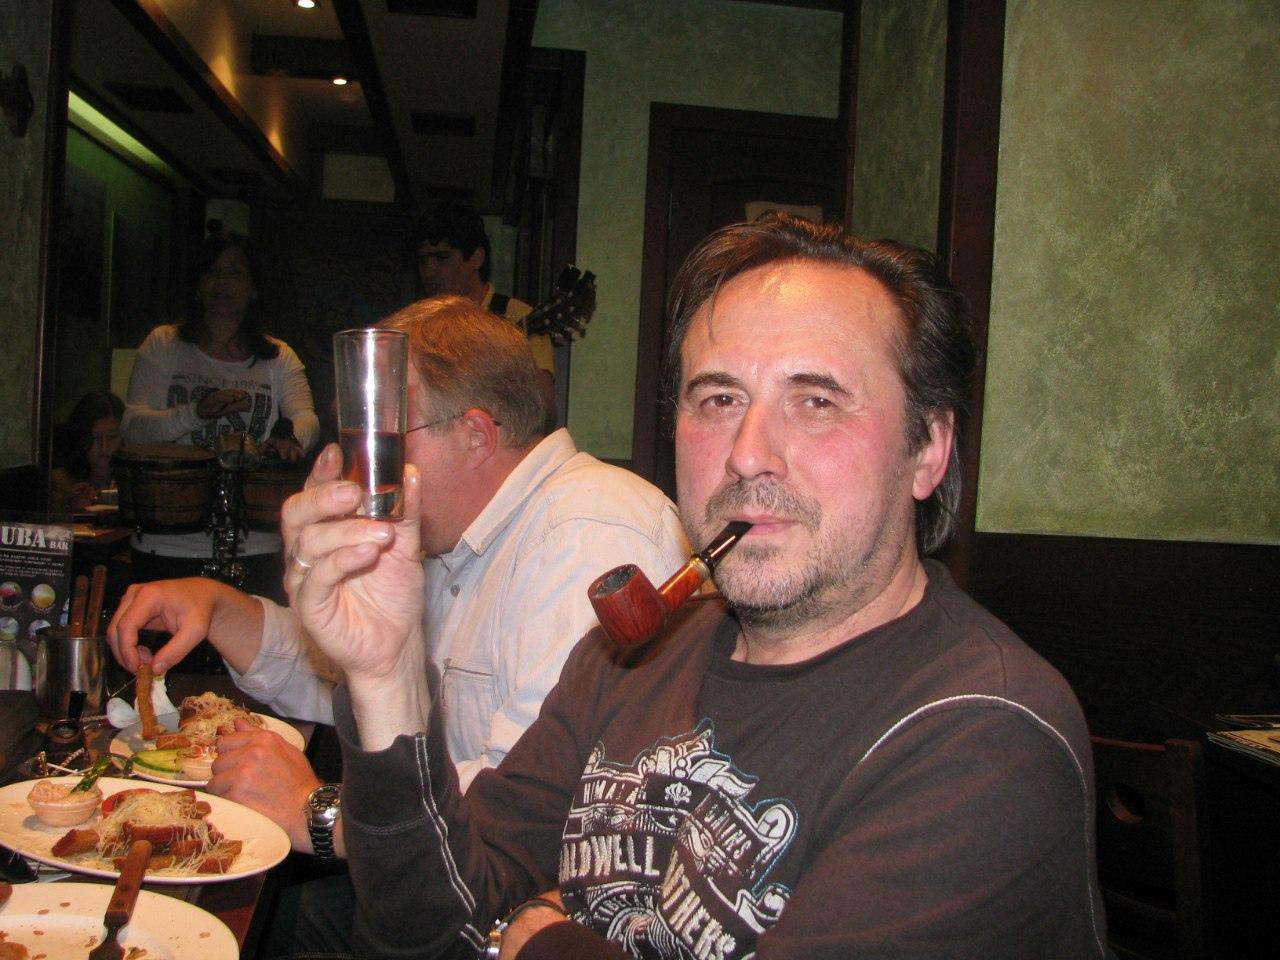trubka: (588, 522, 749, 645)
